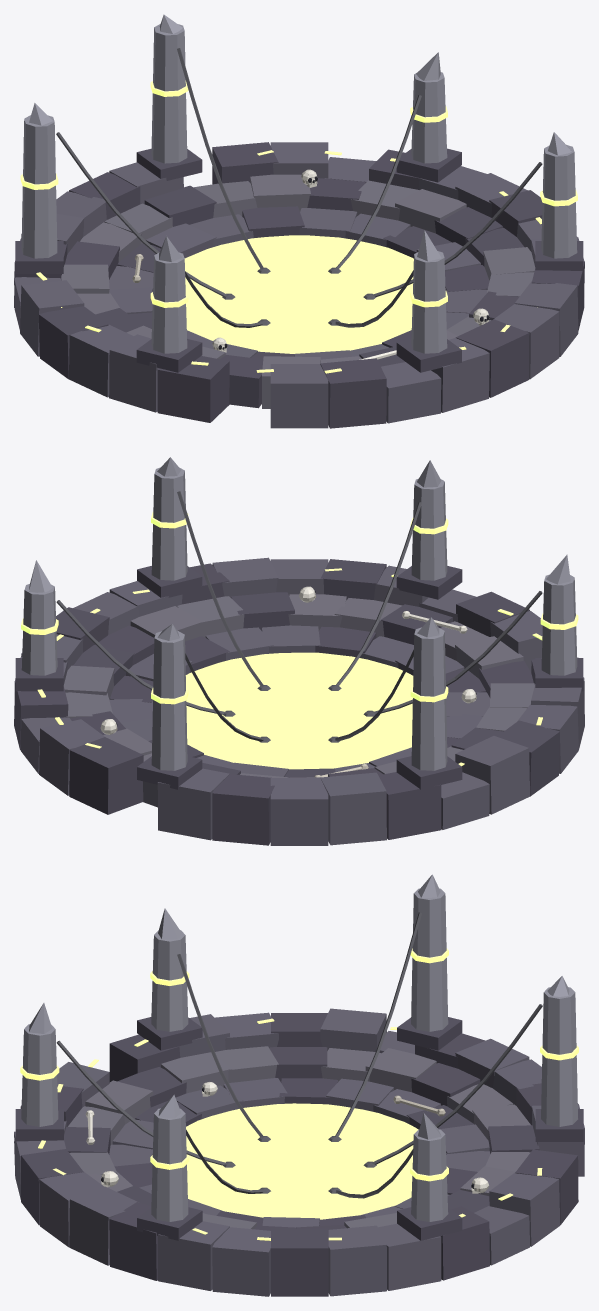
Rendered from pool_island.glb.
3 views of the same model, one above another, from view 1: azimuth 30°, elevation 25°; view 2: azimuth 150°, elevation 25°; view 3: azimuth 270°, elevation 25° (orthographic).
Visible parts, largest first — view 1: pool_island; view 2: pool_island; view 3: pool_island.
Part boxes in pixels (<box>): pool_island: <box>14,14,584,428</box>; pool_island: <box>14,457,584,845</box>; pool_island: <box>14,874,584,1296</box>.
Size of the model in its own units: 10.06 by 4.03 by 10.11.
